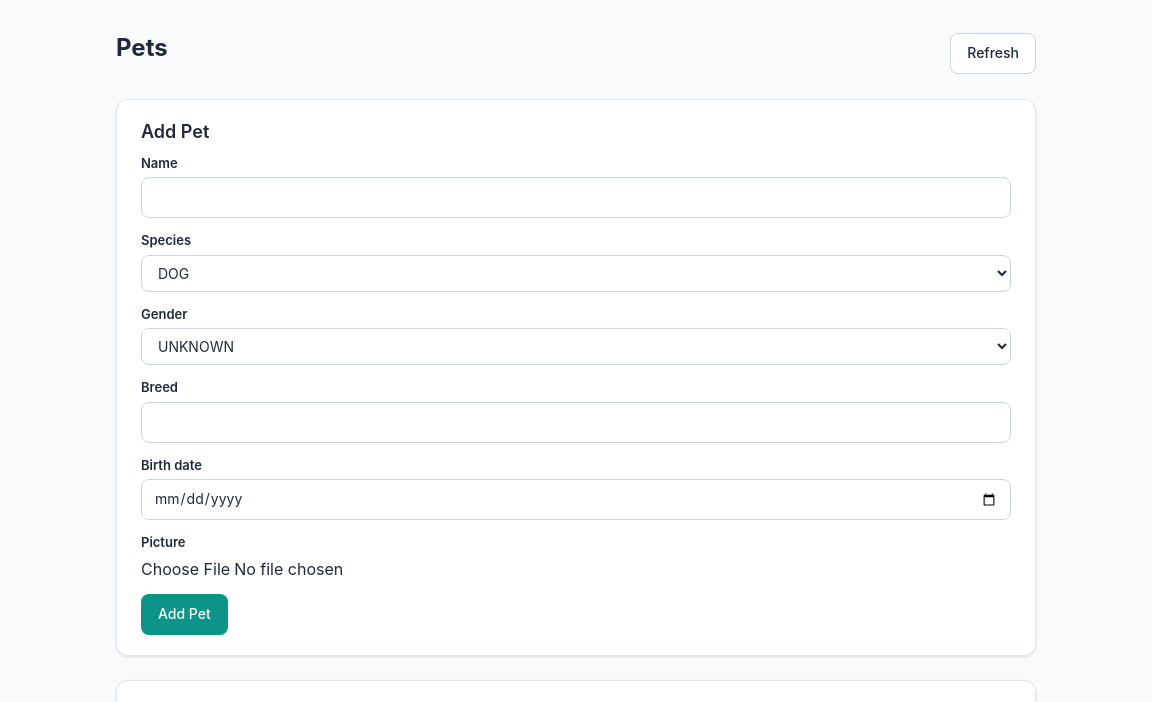
Test: PetsPage › submits a new pet including breed and prepends it to the list
The width and height of the screenshot is (1152, 702).
Type "Buddy" into the field below "Name" at (576, 198), box [141, 177, 1011, 218]
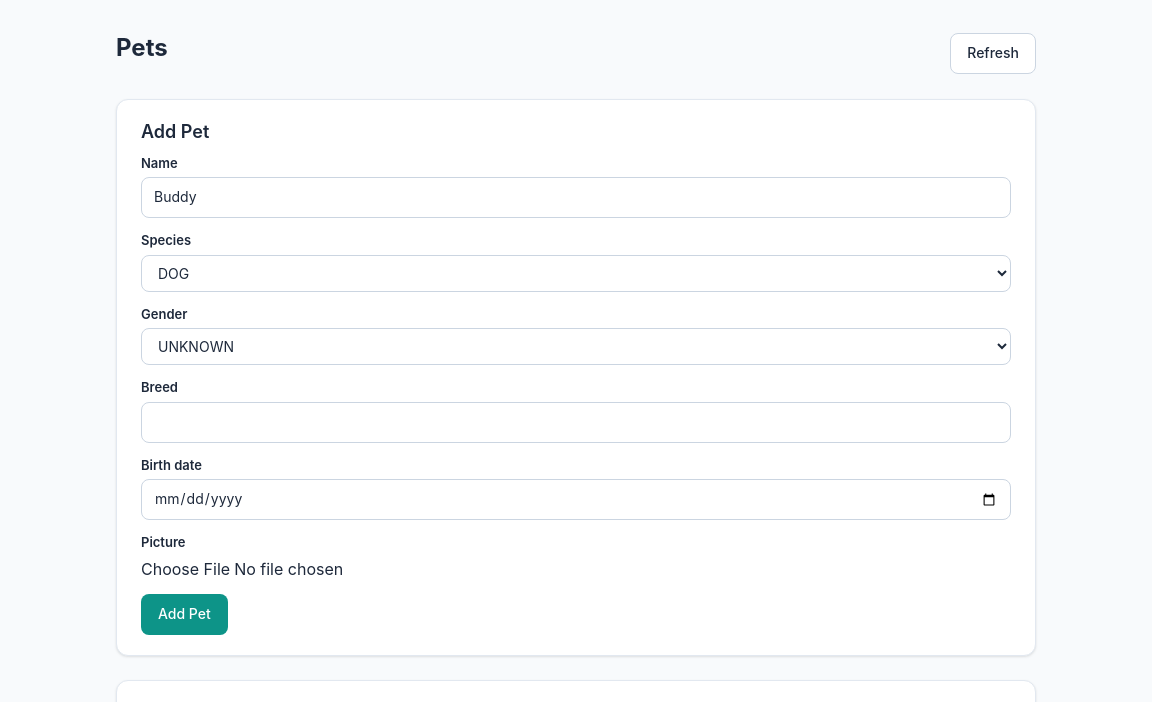
Type "Labrador" into the field below "Breed" at (576, 422), box [141, 402, 1011, 443]
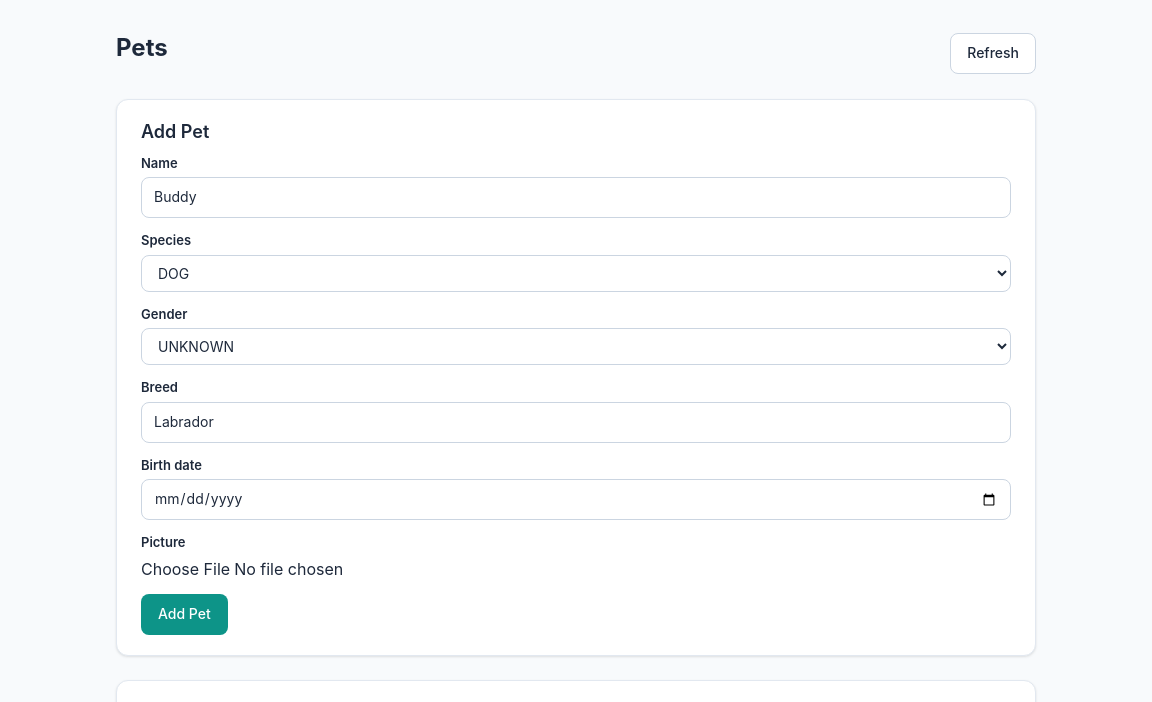
Click the button "Add Pet" at (184, 614), box [141, 594, 228, 634]
(page scrolled)
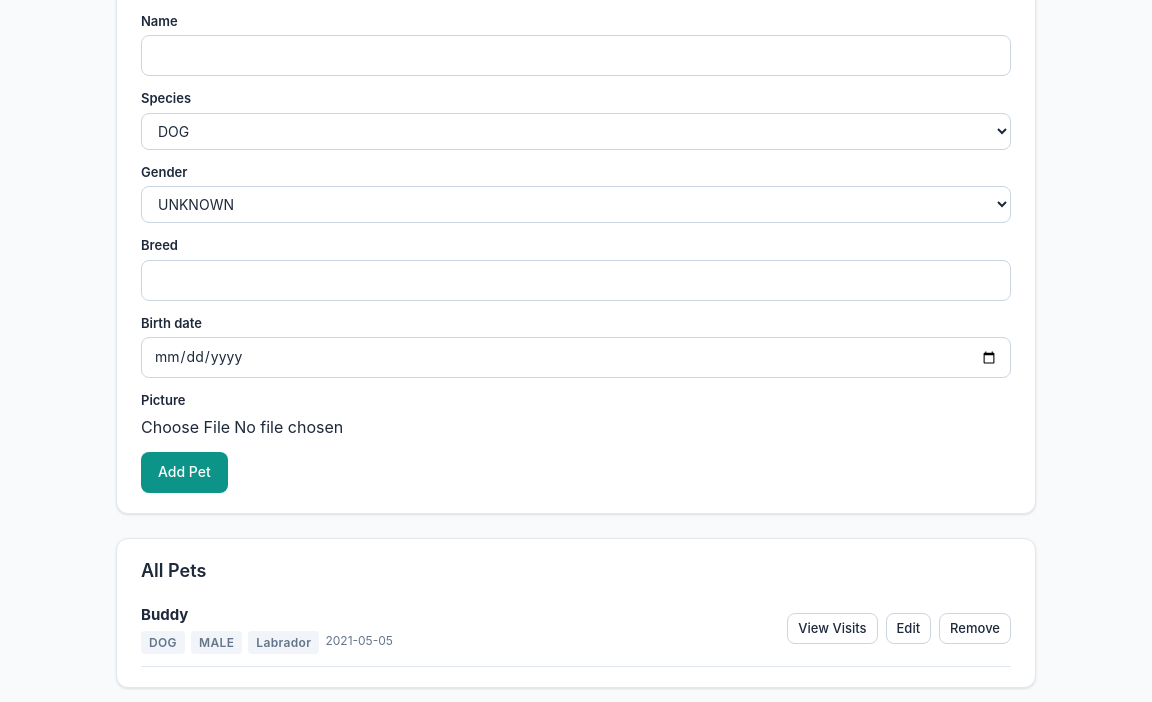
Expected: the text "Buddy" is shown, [141, 605, 188, 624]
Expected: the text "Labrador" is shown, [248, 631, 320, 654]
